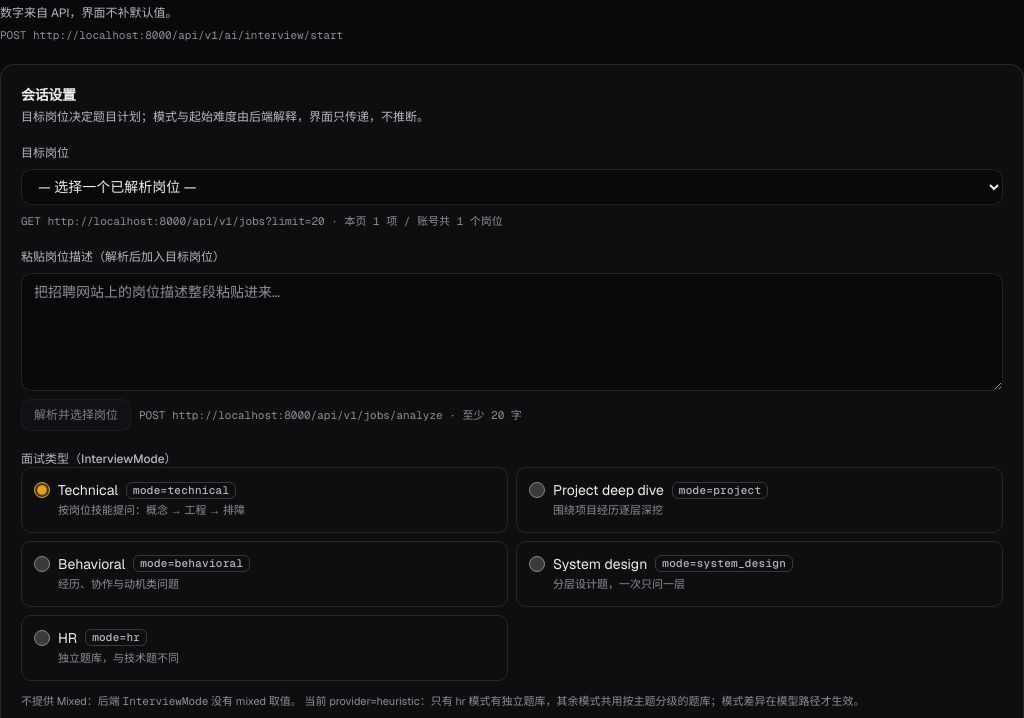
the setup screen › starts a real session with the stored analysis, and puts the id in the URL
Step 1. Select "高级后端工程师（AI 应用方向）（必备 7 · 优先 2）" in the dropdown labelled "目标岗位" → (512, 186), box left=21, top=168, right=1003, bottom=204
(page scrolled)
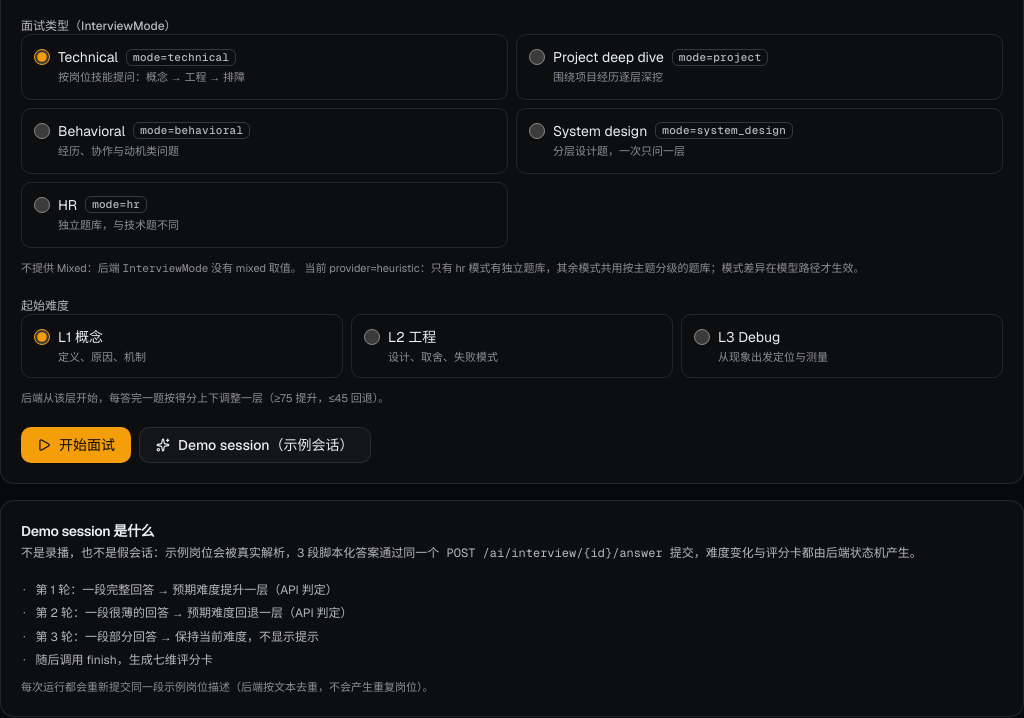
Step 2. Click the radio button labelled "L2 工程 设计、取舍、失败模式" → (372, 336), box left=364, top=328, right=380, bottom=344
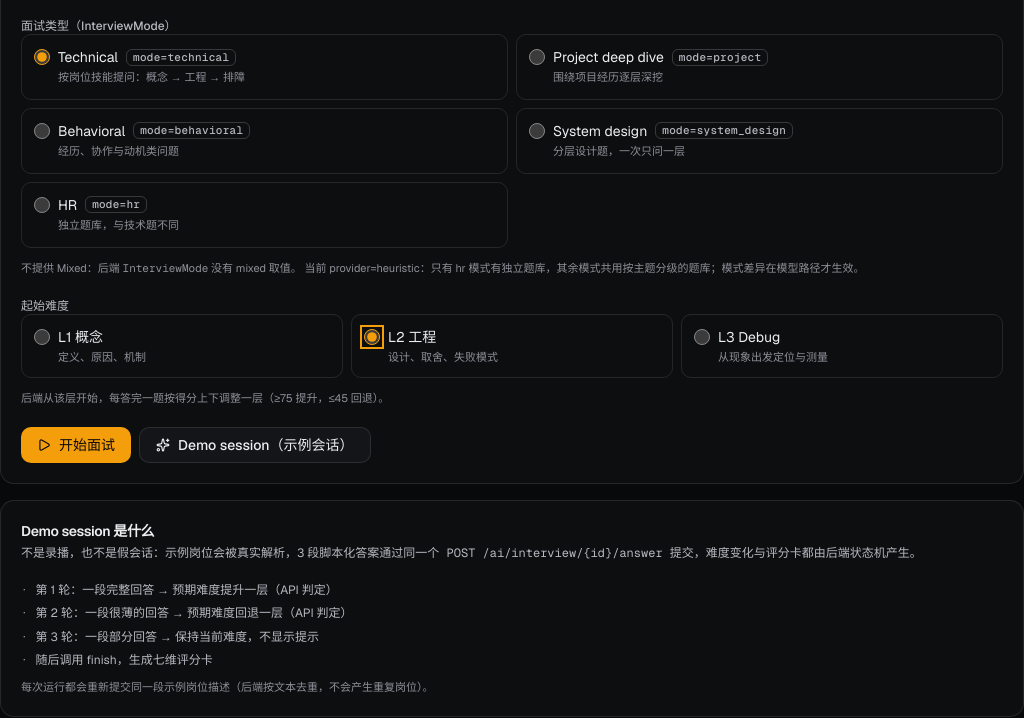
Step 3. Click the button "开始面试" → (76, 444), box left=21, top=426, right=131, bottom=462
(page scrolled)
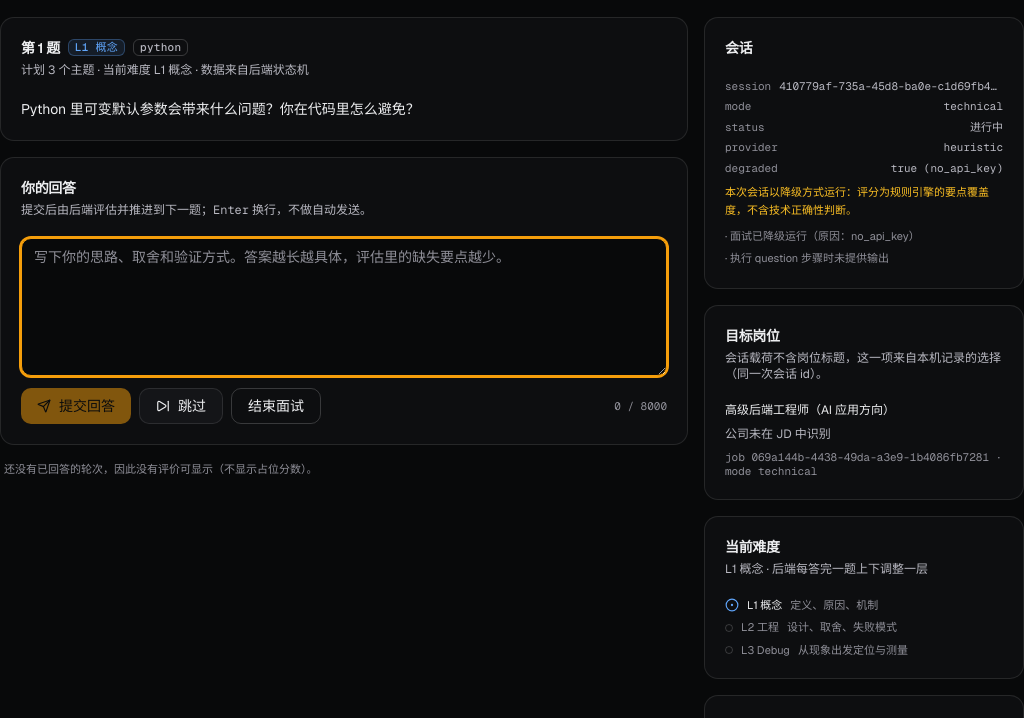
Check: the text "Python 里可变默认参数会带来什么问题？你在代码里怎么避免？" is shown, box left=21, top=100, right=420, bottom=118
